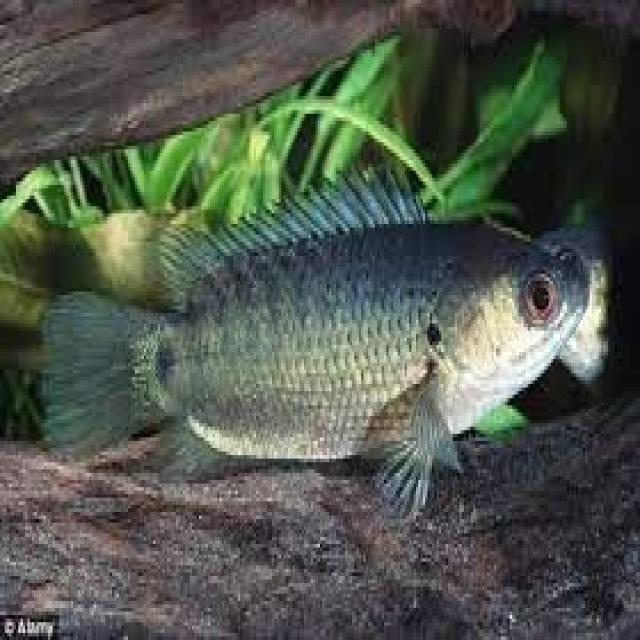Climbing-Perch: (50, 178, 610, 536)
